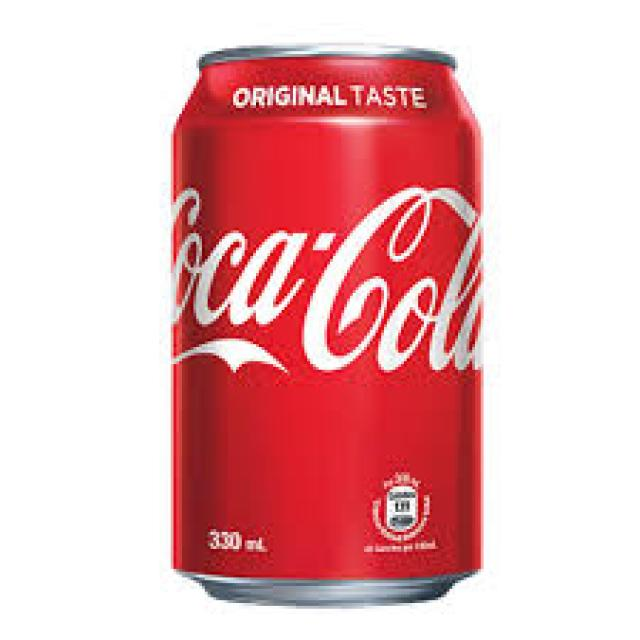aluminum_can: (174, 51, 484, 604)
